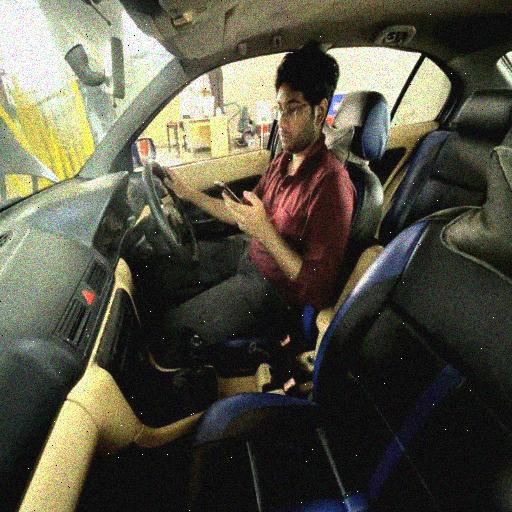Texting_on_phone: (154, 42, 352, 308)
